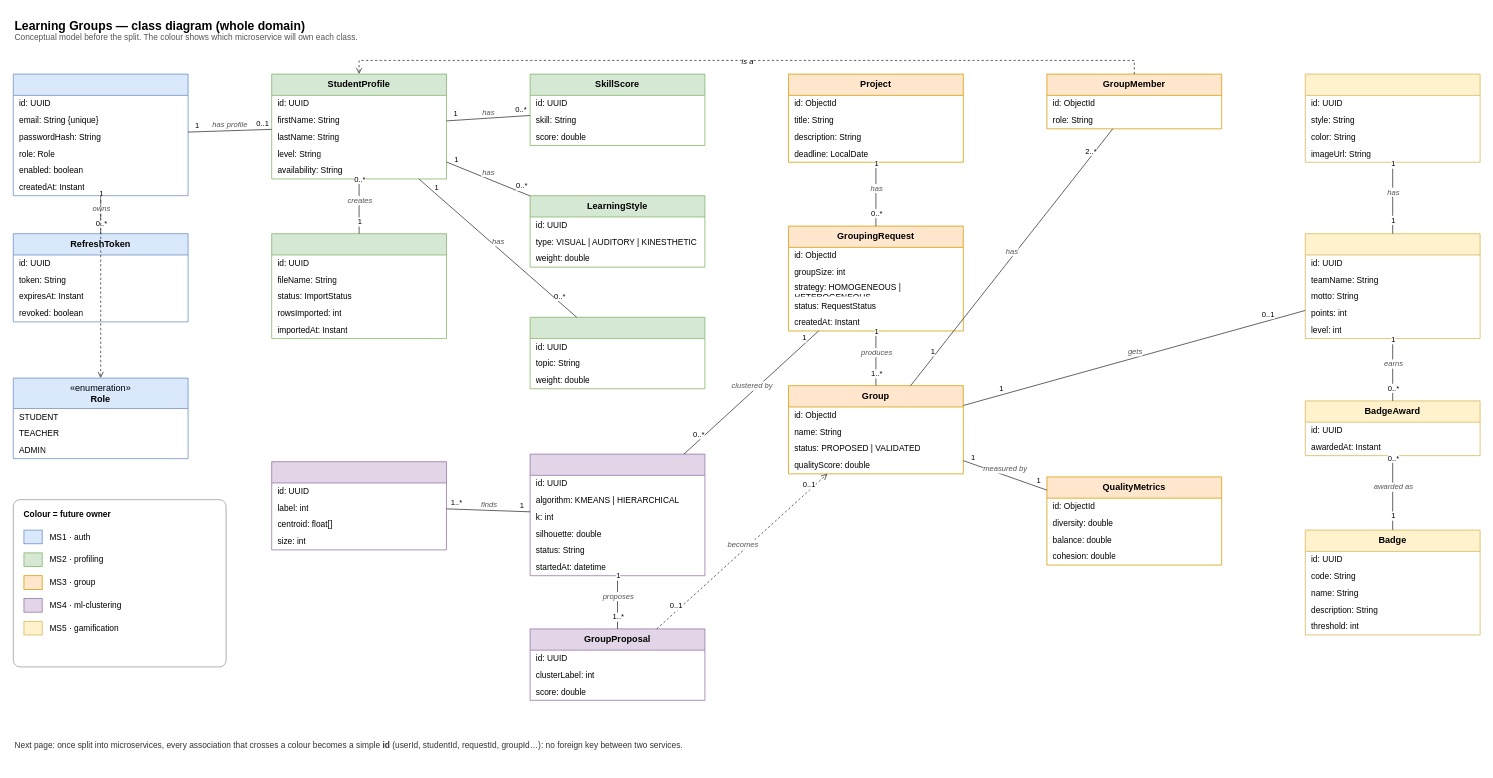
Some shapes in this 1493 by 778 pixel diagram are drawn without their labels. The shapes that lost their labels are listed below. From the top down, each one's box as (x1, y1, x2, y2) in pixels, then its label:
(13, 73, 188, 196): User
(1305, 73, 1480, 162): Avatar
(271, 233, 446, 339): DataImport
(1305, 233, 1480, 339): TeamIdentity
(529, 317, 705, 389): Interest
(271, 461, 446, 550): ClusterProfile
(529, 453, 705, 576): ClusteringRun
